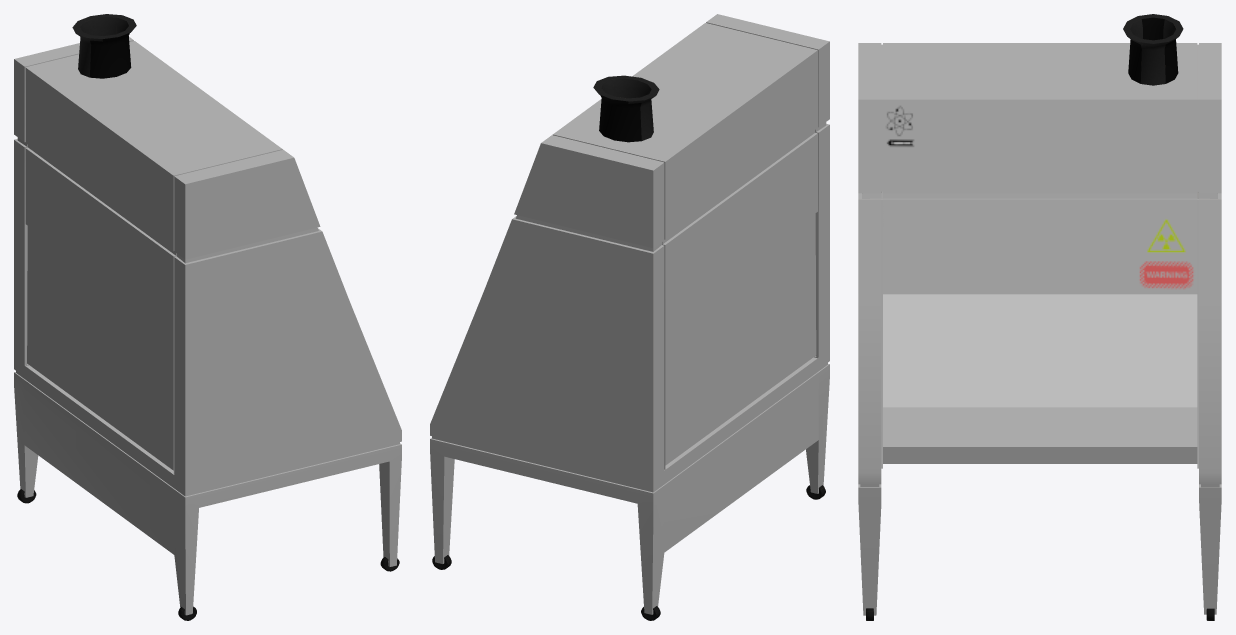
Rendered from Lab machine.fbx.
3 views of the same model, side by side, from view 1: azimuth 30°, elevation 25°; view 2: azimuth 150°, elevation 25°; view 3: azimuth 270°, elevation 25° (orthographic). The views are drawn at different scales.
Parts seen in each view (by area): view 1: Lab_Machine; view 2: Lab_Machine; view 3: Lab_Machine.
Part boxes in pixels (x1,y1,x2,y2): Lab_Machine: [14, 14, 401, 620]; Lab_Machine: [430, 14, 829, 620]; Lab_Machine: [858, 14, 1221, 620].
Size of the model in its own units: 0.8524 by 1.8 by 1.16.
